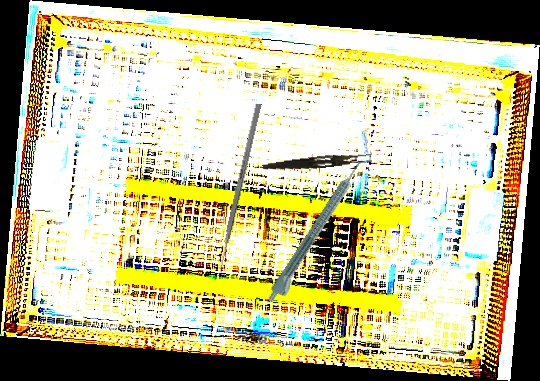Dressing Forceps: (262, 149, 372, 176)
Handpiece: (264, 159, 371, 308)
Pusher: (215, 103, 262, 279)
